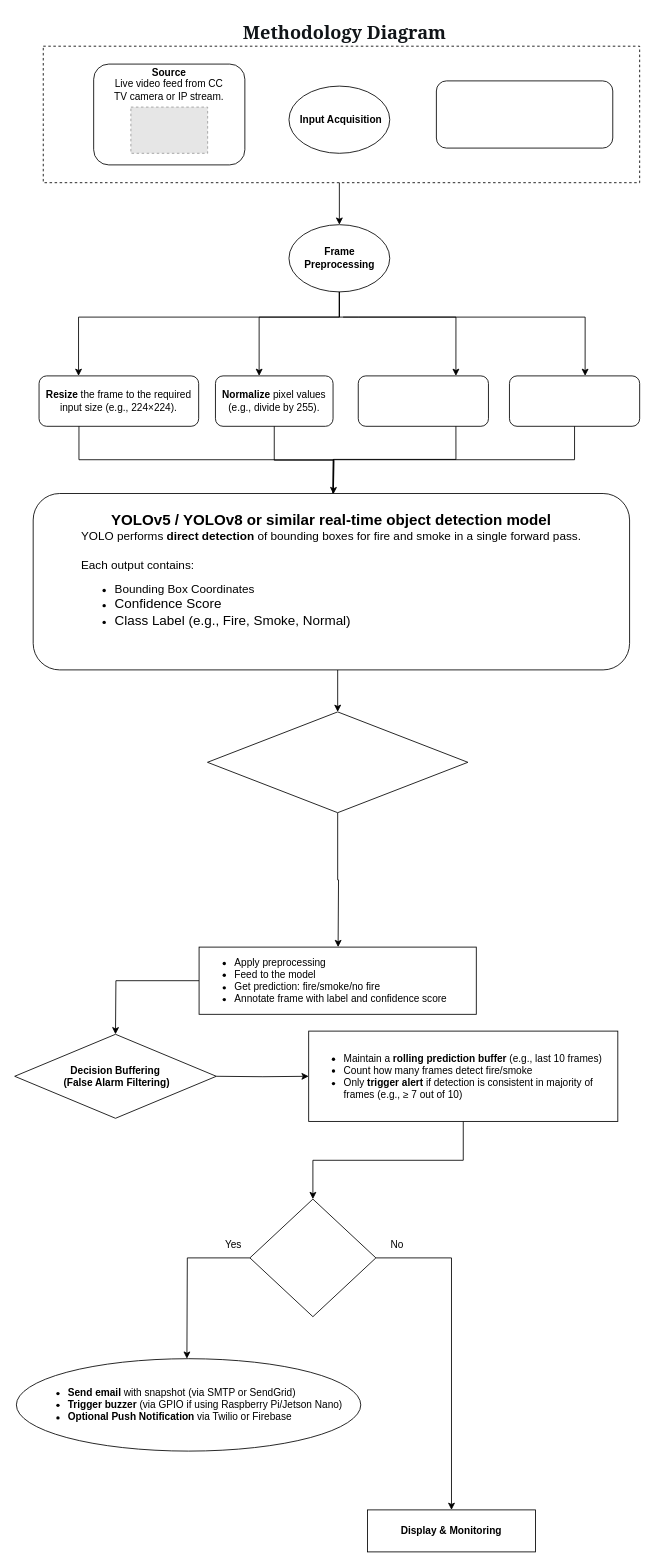
Some shapes in this 654 by 1567 pixel diagram are drawn without their labels. Grey dashed boxes stand in for pictures. The shapes that lost their labels are listed below. From the top down, each one's centre as x and y in pixels, then its label:
pixel 524 114: Tools Used OpenCV's cv2 VideoCapture() to capture frames in real-time.
pixel 422 400: Convert color format (e.g., BGR to RGB if required).
pixel 574 400: Optional Augmentations (for training)
pixel 337 762: Real-Time Inference Loop For each video frame
pixel 312 1257: Alert System If fire/smoke detected
